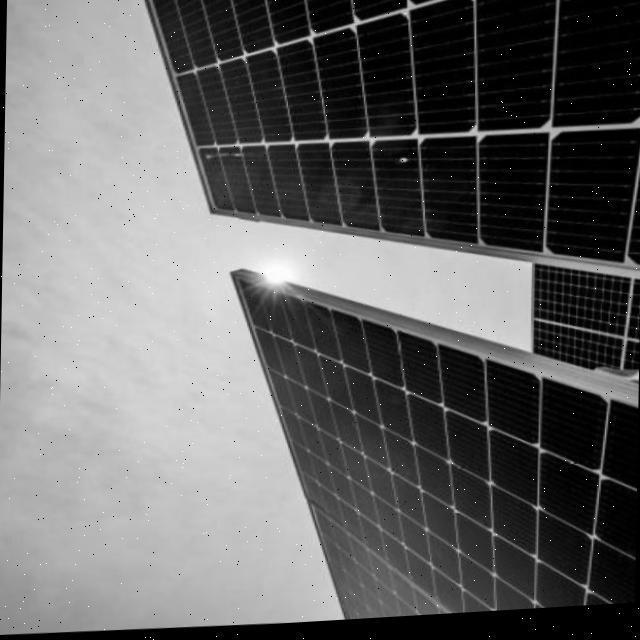Normal Solar Panel: (132, 0, 640, 314), (224, 260, 640, 630), (525, 270, 640, 390)
